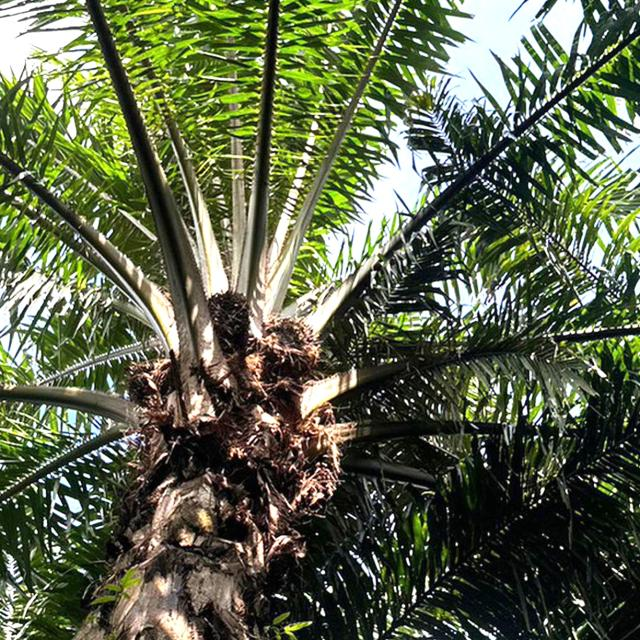unripe: (261, 313, 328, 376), (204, 286, 253, 350)
